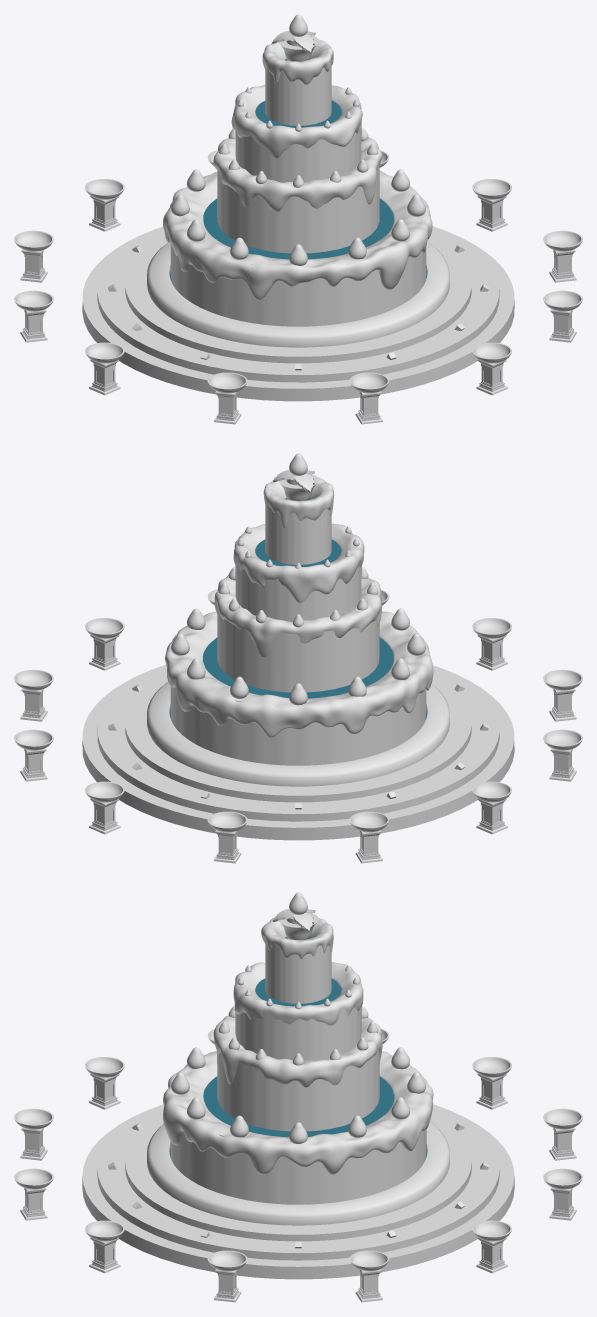
The model's file is hunsui.fbx.
3 views of the same model, one above another, from view 1: azimuth 30°, elevation 25°; view 2: azimuth 150°, elevation 25°; view 3: azimuth 270°, elevation 25° (orthographic).
Visible parts, largest first — view 1: hunsui.002, hap, hunsui_001, BezierCurve.005, center_water, Cube.027, Cube.030, Cube.021, Cube.024, Cube.028, Cube.029, Cube.026 (+3 smaller); view 2: hunsui.002, hap, hunsui_001, BezierCurve.005, center_water, Cube.023, Cube.026, Cube.029, Cube.032, Cube.024, Cube.025, Cube.022 (+3 smaller); view 3: hunsui.002, hap, hunsui_001, BezierCurve.005, center_water, Cube.022, Cube.031, Cube.025, Cube.028, Cube.021, Cube.032, Cube.023 (+4 smaller).
Part boxes in pixels (x1=…): hunsui.002: x1=82, y1=204, x2=514, y2=401; hap: x1=170, y1=60, x2=426, y2=326; hunsui_001: x1=163, y1=39, x2=432, y2=300; BezierCurve.005: x1=171, y1=87, x2=425, y2=265; center_water: x1=169, y1=58, x2=427, y2=280; Cube.027: x1=85, y1=342, x2=124, y2=395; Cube.030: x1=472, y1=342, x2=511, y2=395; Cube.021: x1=472, y1=179, x2=511, y2=231; Cube.024: x1=85, y1=179, x2=124, y2=231; Cube.028: x1=207, y1=372, x2=247, y2=424; Cube.029: x1=349, y1=372, x2=389, y2=424; Cube.026: x1=14, y1=290, x2=53, y2=342; hunsui.002: x1=82, y1=649, x2=514, y2=840; hap: x1=170, y1=499, x2=426, y2=765; hunsui_001: x1=165, y1=477, x2=433, y2=737; BezierCurve.005: x1=171, y1=526, x2=425, y2=705; center_water: x1=169, y1=497, x2=427, y2=719; Cube.023: x1=85, y1=781, x2=124, y2=834; Cube.026: x1=472, y1=781, x2=511, y2=834; Cube.029: x1=472, y1=618, x2=511, y2=670; Cube.032: x1=85, y1=618, x2=124, y2=670; Cube.024: x1=207, y1=811, x2=247, y2=863; Cube.025: x1=349, y1=811, x2=389, y2=863; Cube.022: x1=14, y1=729, x2=53, y2=781; hunsui.002: x1=82, y1=1094, x2=514, y2=1279; hap: x1=170, y1=941, x2=426, y2=1204; hunsui_001: x1=163, y1=918, x2=433, y2=1174; BezierCurve.005: x1=171, y1=965, x2=425, y2=1143; center_water: x1=169, y1=936, x2=427, y2=1159; Cube.022: x1=472, y1=1220, x2=511, y2=1273; Cube.031: x1=85, y1=1220, x2=124, y2=1273; Cube.025: x1=472, y1=1057, x2=511, y2=1109; Cube.028: x1=85, y1=1057, x2=124, y2=1109; Cube.021: x1=349, y1=1250, x2=389, y2=1302; Cube.032: x1=207, y1=1250, x2=247, y2=1302; Cube.023: x1=543, y1=1168, x2=582, y2=1220.
Size of the model in its own units: 16.12 by 9.36 by 16.12.
